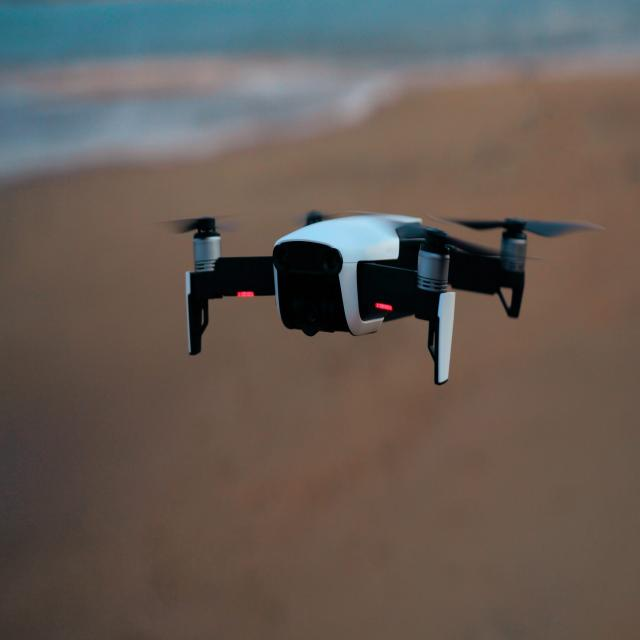drones: (138, 188, 603, 402)
